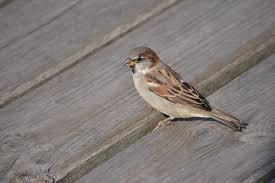hsparrow: (118, 41, 251, 143)
